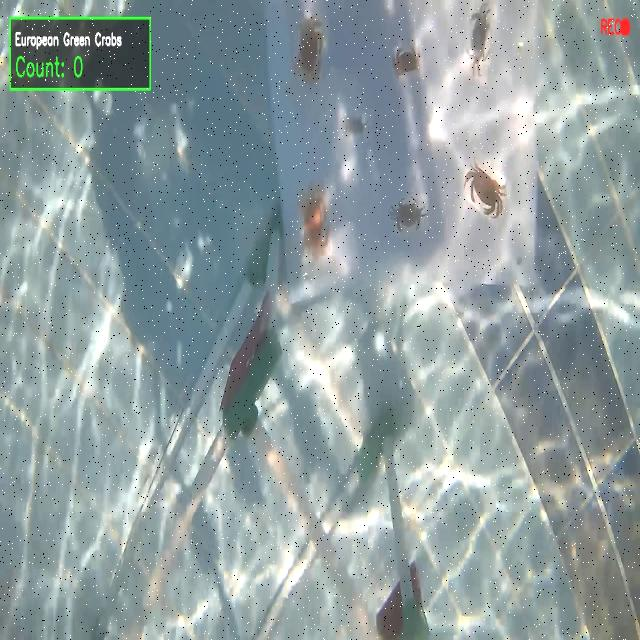European_Green_Crab: (463, 1, 498, 88), (389, 193, 428, 232), (343, 114, 364, 132)
